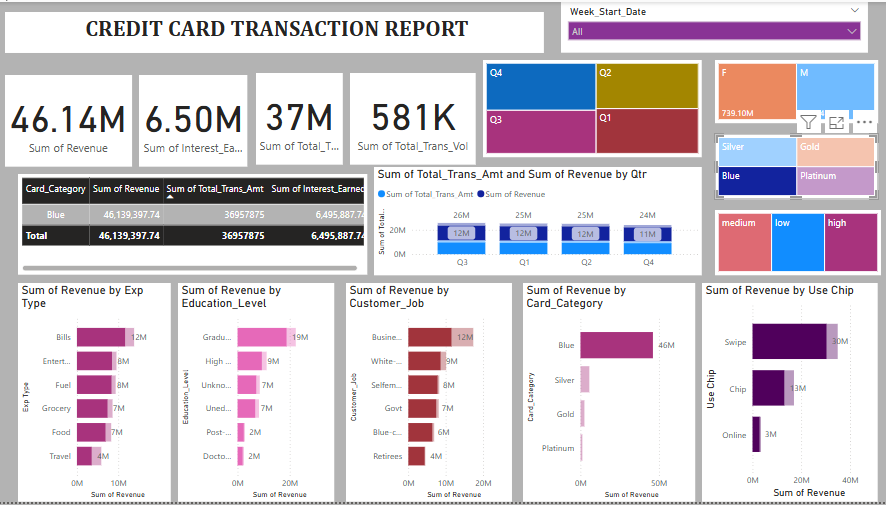

What the dashboard file says about the page in this screenshot:
{"tool":"powerbi","page":{"name":"transaction report","canvas":[1280,720],"ordinal":0},"visuals":[{"type":"textbox","box":[10.1,14.4,776.2,59],"z":0},{"type":"tableEx","fields":{"Values":["credit_card.Card_Category","Sum(credit_card.Revenue)","Sum(credit_card.Total_Trans_Amt)","Sum(credit_card.Interest_Earned)"]},"box":[28.8,247.7,502.6,145.4],"z":1000},{"type":"lineStackedColumnComboChart","fields":{"Category":["credit_card.Qtr"],"Y":["Sum(credit_card.Total_Trans_Amt)","Sum(credit_card.Revenue)"]},"box":[541.4,237.6,472.3,155.5],"z":2000},{"type":"barChart","fields":{"Category":["credit_card.Exp Type"],"Y":["Sum(credit_card.Revenue)"]},"box":[28.8,404.6,220.3,315.4],"z":3000},{"type":"barChart","fields":{"Category":["customer.Education_Level"],"Y":["Sum(credit_card.Revenue)"]},"box":[259.2,404.6,224.6,315.4],"z":4000},{"type":"barChart","fields":{"Category":["customer.Customer_Job"],"Y":["Sum(credit_card.Revenue)"]},"box":[501.1,404.6,239,315.4],"z":5000},{"type":"barChart","fields":{"Category":["credit_card.Card_Category"],"Y":["Sum(credit_card.Revenue)"]},"box":[756,404.6,247.7,315.4],"z":6000},{"type":"barChart","fields":{"Category":["credit_card.Use Chip"],"Y":["Sum(credit_card.Revenue)"]},"box":[1013.8,404.6,253.4,315.4],"z":7000},{"type":"slicer","fields":{"Values":["credit_card.Week_Start_Date"]},"box":[810.7,0,442.1,73.4],"z":8000},{"type":"treemap","fields":{"Group":["customer.Gender"],"Values":["Avg(customer.Client_Num)"]},"box":[1032.5,83.5,234.7,90.7],"z":9000},{"type":"treemap","fields":{"Group":["credit_card.Card_Category"],"Values":["Avg(credit_card.Client_Num)"]},"box":[1032.5,190.1,234.7,93.6],"z":10000},{"type":"treemap","fields":{"Group":["customer.IncomeGroup"],"Values":["Avg(customer.Client_Num)"]},"box":[1032.5,299.5,239,93.6],"z":11000},{"type":"treemap","fields":{"Values":["Avg(customer.Client_Num)"],"Group":["credit_card.Qtr"]},"box":[698.4,83.5,315.4,139.7],"z":12000},{"type":"card","fields":{"Values":["Sum(credit_card.Revenue)"]},"box":[10.1,105.1,182.9,132.5],"z":13000},{"type":"card","fields":{"Values":["Sum(credit_card.Interest_Earned)"]},"box":[203,105.1,155.5,132.5],"z":14000},{"type":"card","fields":{"Values":["Sum(credit_card.Total_Trans_Amt)"]},"box":[371.5,102.2,125.3,132.5],"z":15000},{"type":"card","fields":{"Values":["Sum(credit_card.Total_Trans_Vol)"]},"box":[506.9,102.2,181.4,132.5],"z":16000}]}

Visuals, with their boxes in screenshot pixels (x1, y1, x2, y2), scaled from the page's 1280x720 canvas onto the 886x505 screenshot:
textbox: [7, 10, 544, 51]
tableEx - credit_card.Card_Category x Sum(credit_card.Revenue): [20, 174, 368, 276]
lineStackedColumnComboChart - credit_card.Qtr x Sum(credit_card.Total_Trans_Amt): [375, 167, 702, 276]
barChart - credit_card.Exp Type x Sum(credit_card.Revenue): [20, 284, 172, 504]
barChart - customer.Education_Level x Sum(credit_card.Revenue): [179, 284, 335, 504]
barChart - customer.Customer_Job x Sum(credit_card.Revenue): [347, 284, 512, 504]
barChart - credit_card.Card_Category x Sum(credit_card.Revenue): [523, 284, 695, 504]
barChart - credit_card.Use Chip x Sum(credit_card.Revenue): [702, 284, 877, 504]
slicer - credit_card.Week_Start_Date: [561, 0, 867, 51]
treemap - customer.Gender x Avg(customer.Client_Num): [715, 59, 877, 122]
treemap - credit_card.Card_Category x Avg(credit_card.Client_Num): [715, 133, 877, 199]
treemap - customer.IncomeGroup x Avg(customer.Client_Num): [715, 210, 880, 276]
treemap - Avg(customer.Client_Num) x credit_card.Qtr: [483, 59, 702, 157]
card - Sum(credit_card.Revenue): [7, 74, 134, 167]
card - Sum(credit_card.Interest_Earned): [141, 74, 248, 167]
card - Sum(credit_card.Total_Trans_Amt): [257, 72, 344, 165]
card - Sum(credit_card.Total_Trans_Vol): [351, 72, 476, 165]
